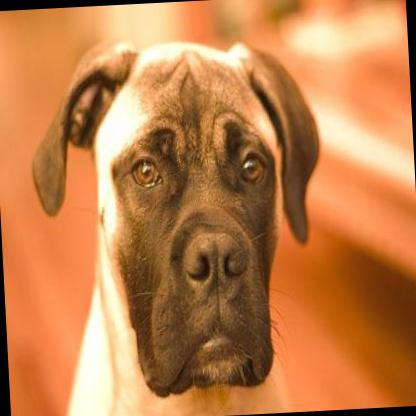bull_mastiff: (24, 29, 331, 416)
